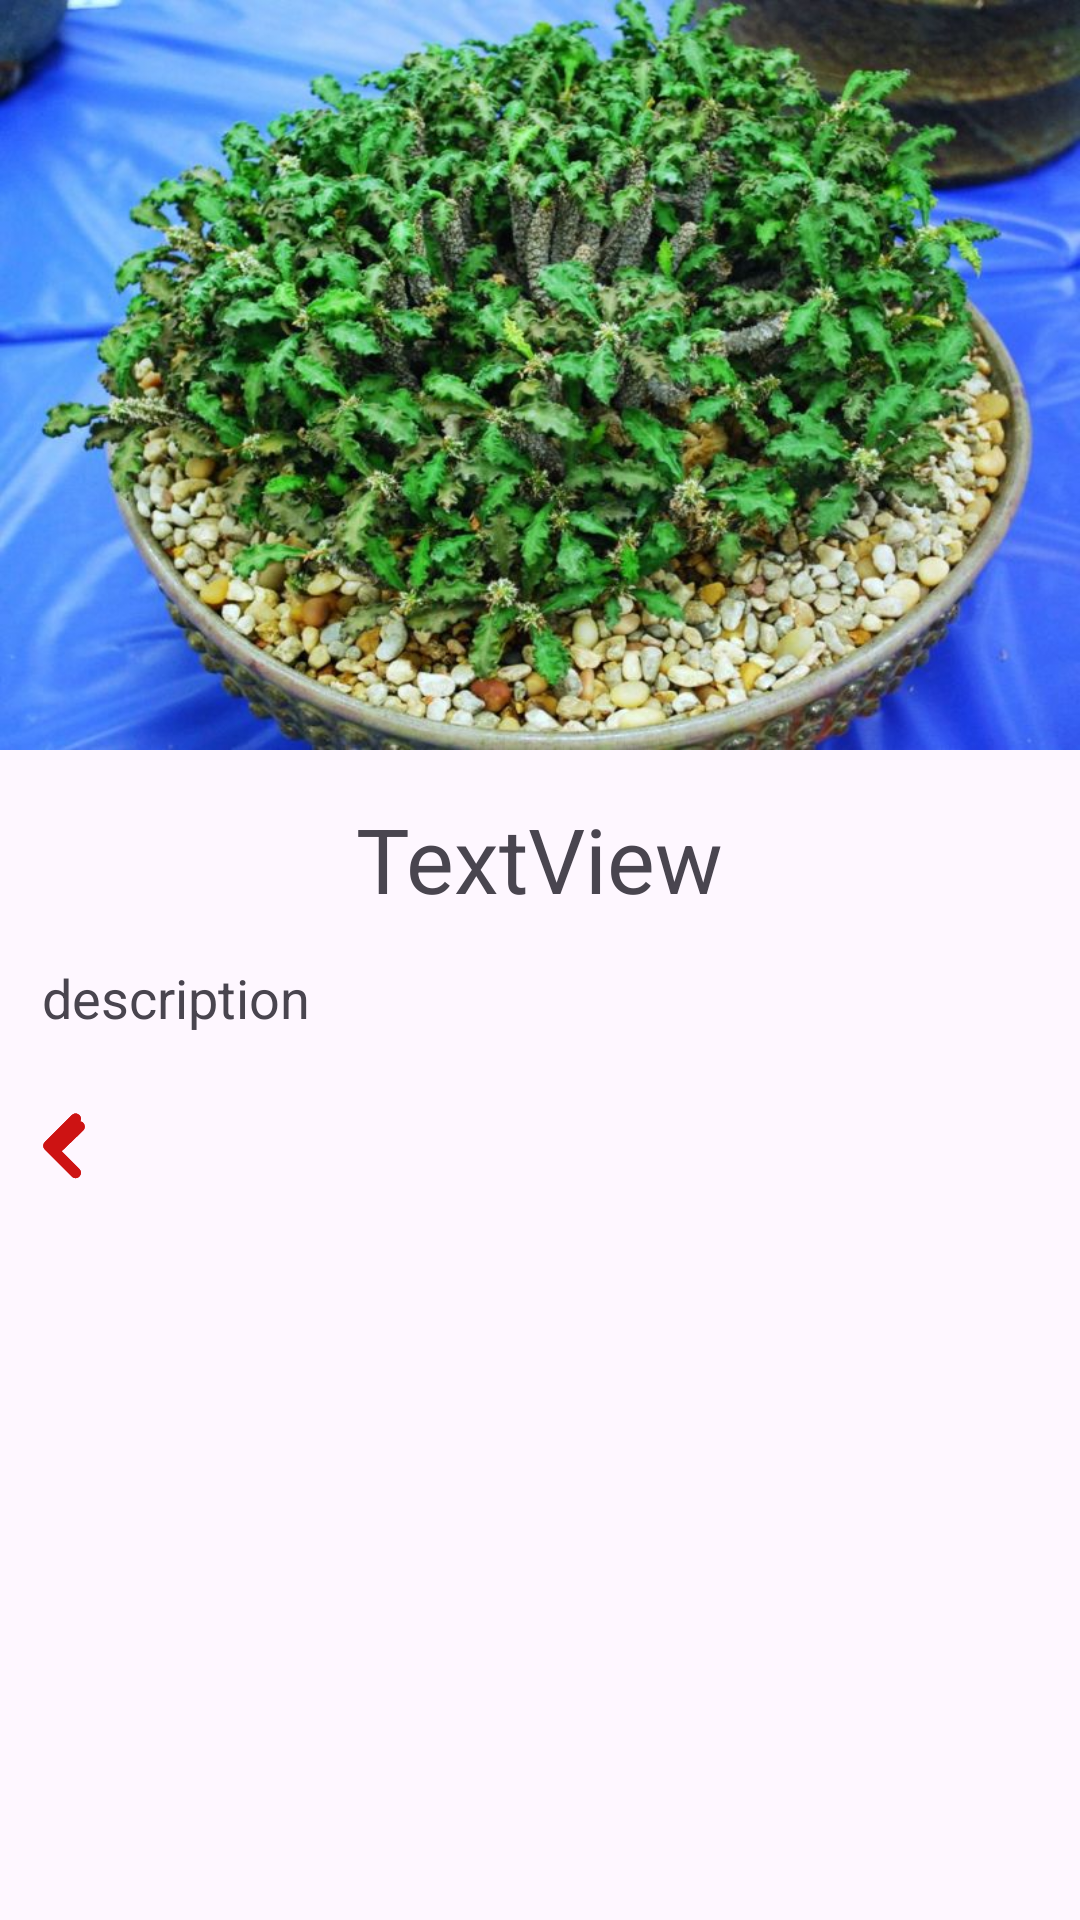

Icons on this 1080 x 1920 Android screen, each with its box as (x1=x1, y1=y1, x2=x2, y2=y2):
back: (x1=43, y1=1113, x2=85, y2=1179)
